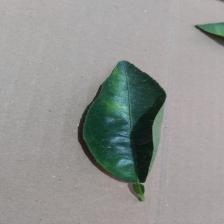greening: (73, 62, 149, 147)
